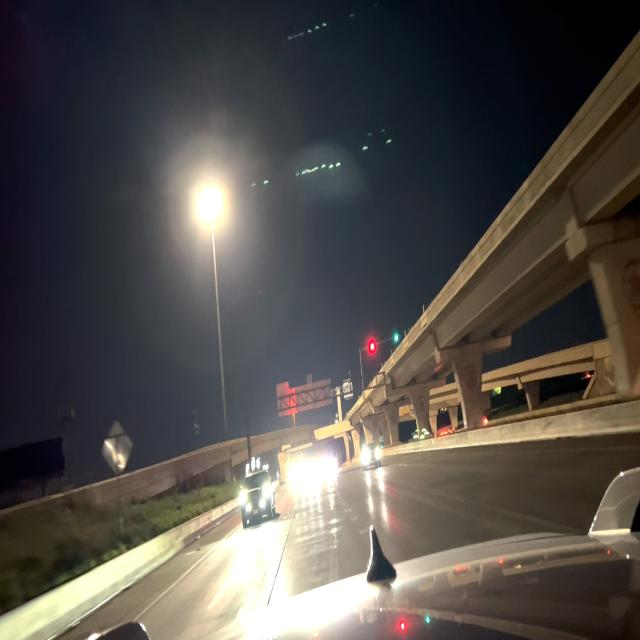back-of-sign: (104, 422, 134, 475)
